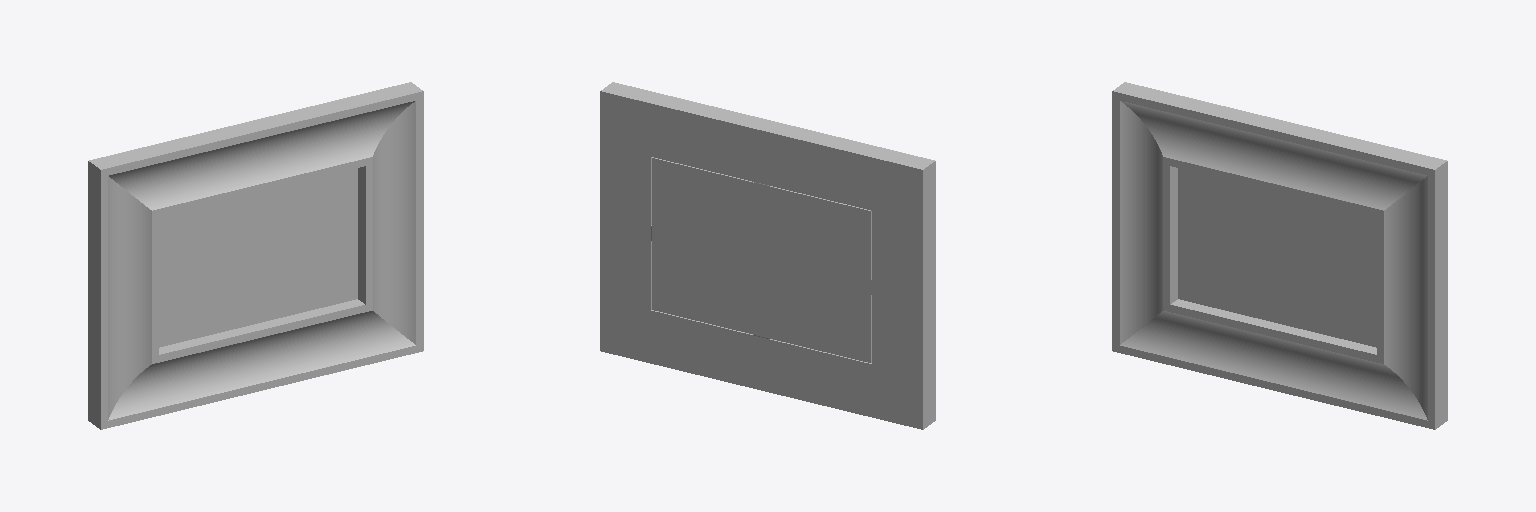
File: picture_frame2.obj
The picture shows the model from 3 angles: view 1: azimuth 30°, elevation 25°; view 2: azimuth 150°, elevation 25°; view 3: azimuth 330°, elevation 25°; orthographic projection.
Size of the model in its own units: 222 by 171 by 15.